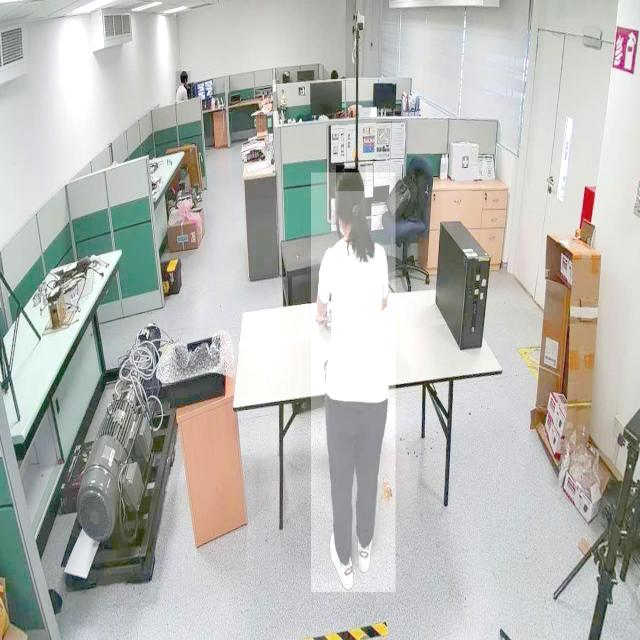head_nohelmet: (336, 165, 366, 192), (180, 70, 188, 76)
person: (310, 172, 396, 593), (175, 71, 191, 101)
shoes: (324, 520, 357, 594), (352, 503, 378, 572)
